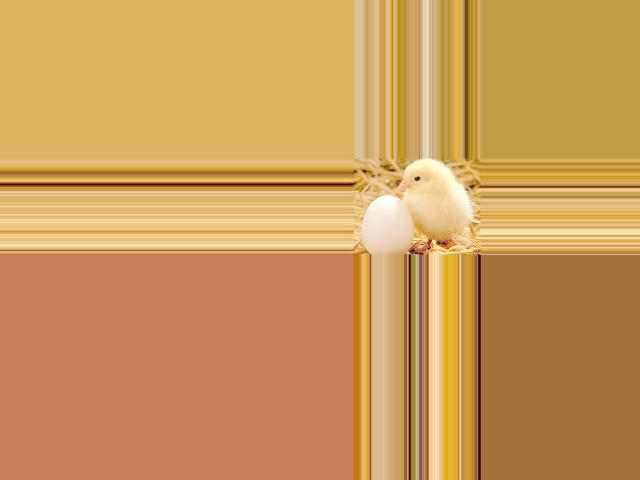egg: (362, 195, 414, 255)
